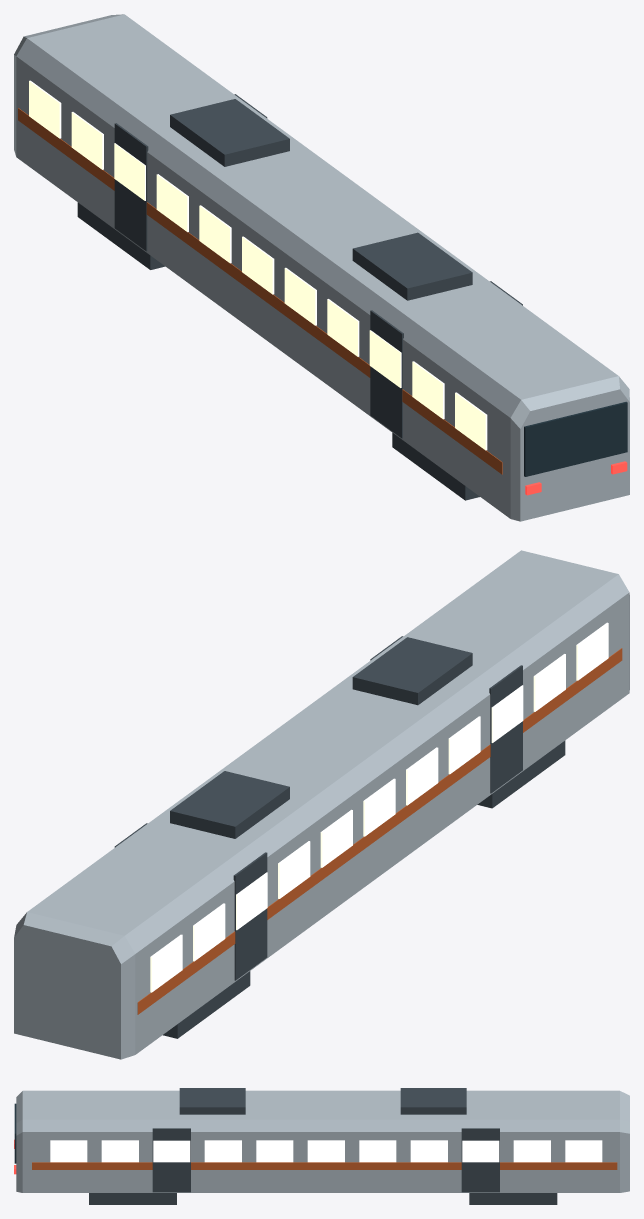
Rendered from subway-tail.glb.
3 renders of one model, top to bottom at view 1: azimuth 30°, elevation 25°; view 2: azimuth 150°, elevation 25°; view 3: azimuth 270°, elevation 25°, orthographic. The views are drawn at different scales.
Size of the model in its own units: 2.72 by 3.24 by 19.57.
